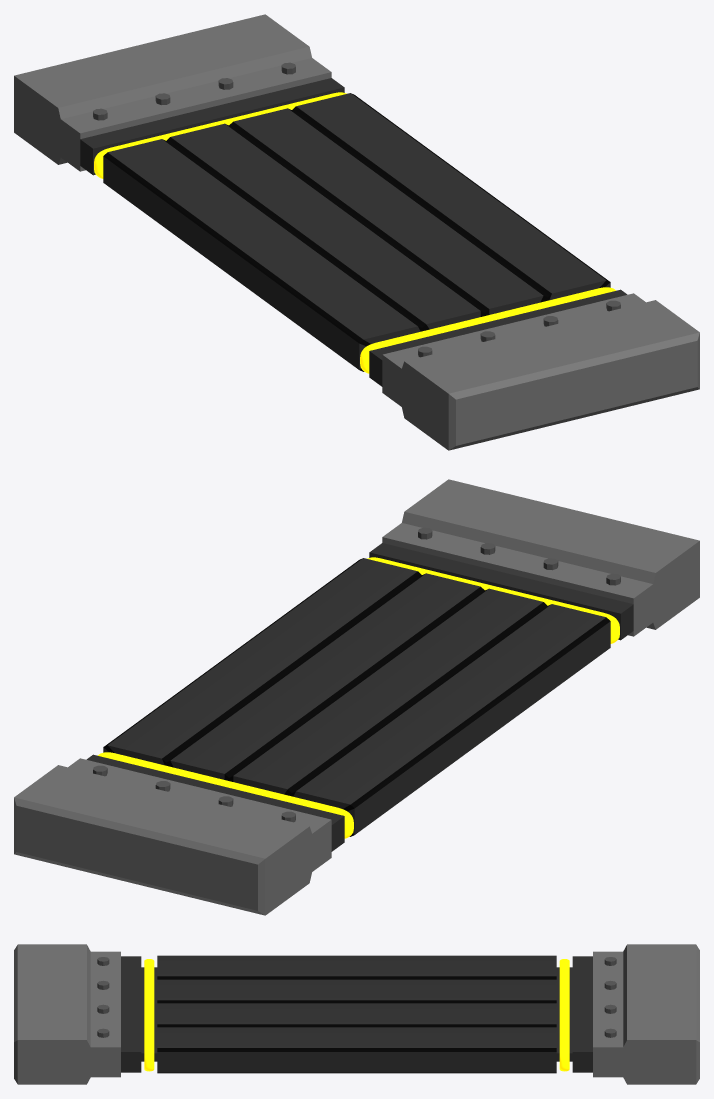
The model's file is PlatformSegment.fbx.
The picture shows the model from 3 angles, top to bottom: view 1: azimuth 30°, elevation 25°; view 2: azimuth 150°, elevation 25°; view 3: azimuth 270°, elevation 25°; orthographic projection. The views are drawn at different scales.
Visible parts, largest first — view 1: HangerPlatformSegment, PlatformEmissive, Bolts; view 2: HangerPlatformSegment, PlatformEmissive, Bolts; view 3: HangerPlatformSegment, PlatformEmissive, Bolts.
Boxes of the visible parts, x1,y1,x2,y2 form: HangerPlatformSegment: (14, 14, 699, 450); PlatformEmissive: (94, 92, 615, 373); Bolts: (93, 62, 620, 357); HangerPlatformSegment: (14, 479, 699, 915); PlatformEmissive: (98, 557, 619, 838); Bolts: (93, 527, 620, 822); HangerPlatformSegment: (14, 944, 699, 1084); PlatformEmissive: (144, 959, 569, 1071); Bolts: (97, 957, 616, 1037).
Bounding box in the file's own units: 3.05 × 0.6437 × 9.
